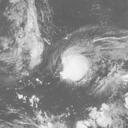cyclone: (61, 51, 89, 83)
